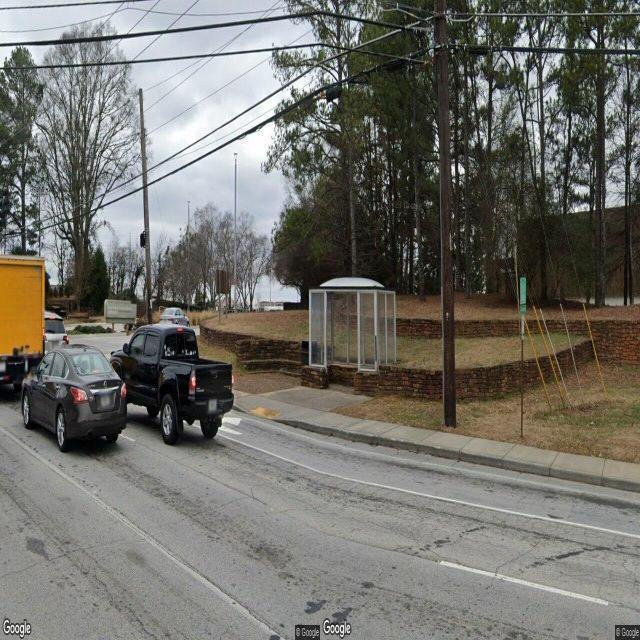shelter: (308, 278, 397, 390)
trash_can: (300, 339, 318, 364)
